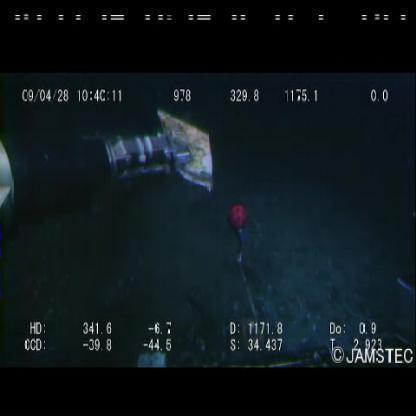Rác: (156, 110, 214, 193)
